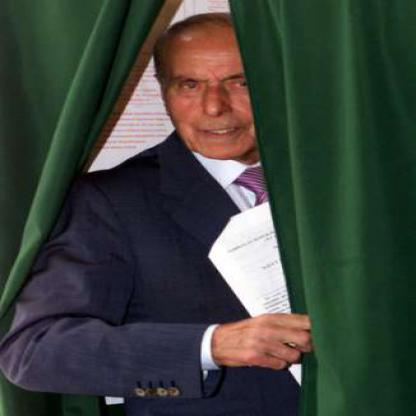face: (160, 16, 284, 162)
